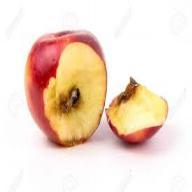apple: (24, 31, 106, 144), (104, 69, 168, 145)
